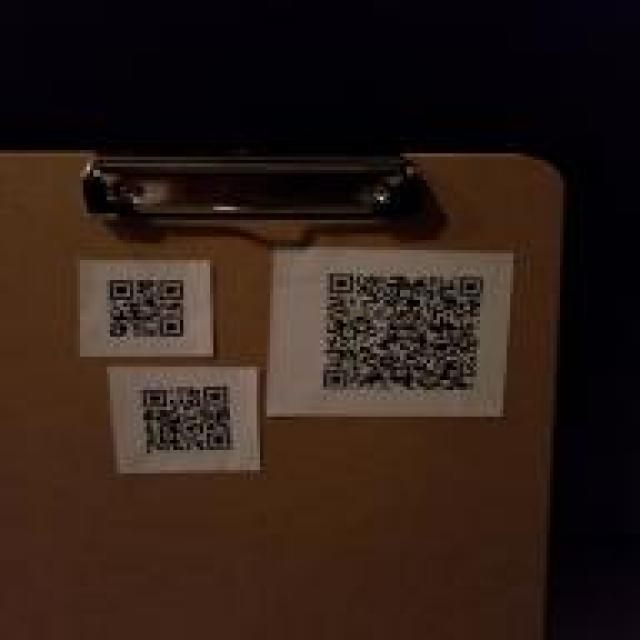qr_code: (322, 273, 484, 390), (141, 386, 231, 454), (110, 279, 184, 338)
